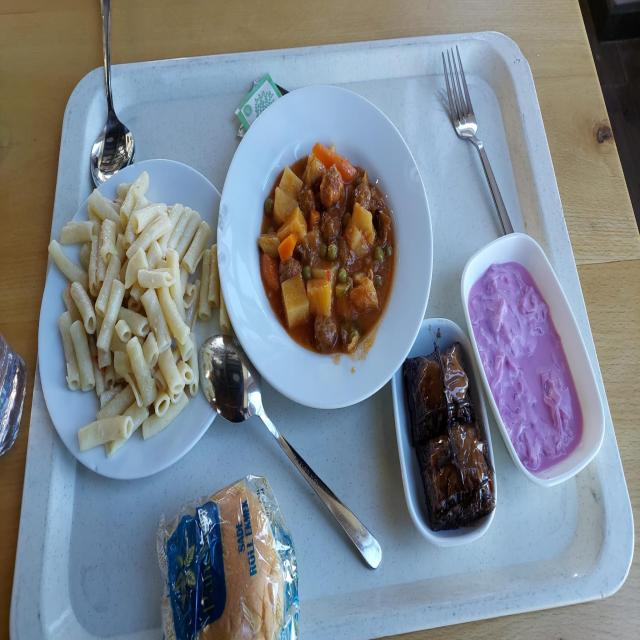ana_yemek: (36, 159, 229, 479), (220, 83, 407, 413)
yan_yemek: (455, 233, 605, 489), (395, 316, 488, 548)
